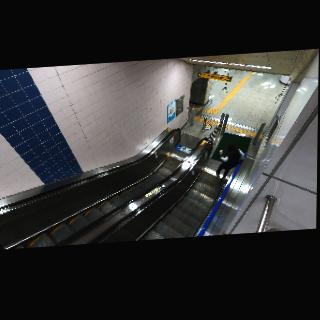normal: (218, 142, 247, 178)
